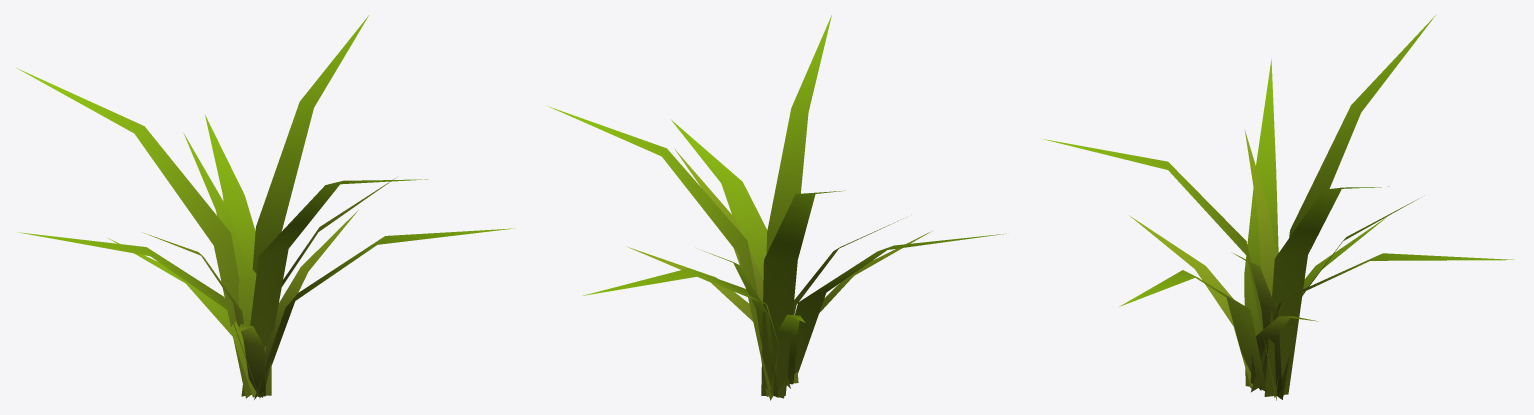
Rendered from Bush_Grassy_B.fbx.
3 renders of one model, left to right at view 1: azimuth 30°, elevation 25°; view 2: azimuth 150°, elevation 25°; view 3: azimuth 270°, elevation 25°, orthographic.
Parts seen in each view (by area): view 1: Bush_Grassy_B; view 2: Bush_Grassy_B; view 3: Bush_Grassy_B.
Boxes of the visible parts, x1,y1,x2,y2 form: Bush_Grassy_B: [16, 15, 514, 399]; Bush_Grassy_B: [548, 15, 1005, 400]; Bush_Grassy_B: [1041, 15, 1513, 400].
Bounding box in the file's own units: 117 × 80.8 × 115.
